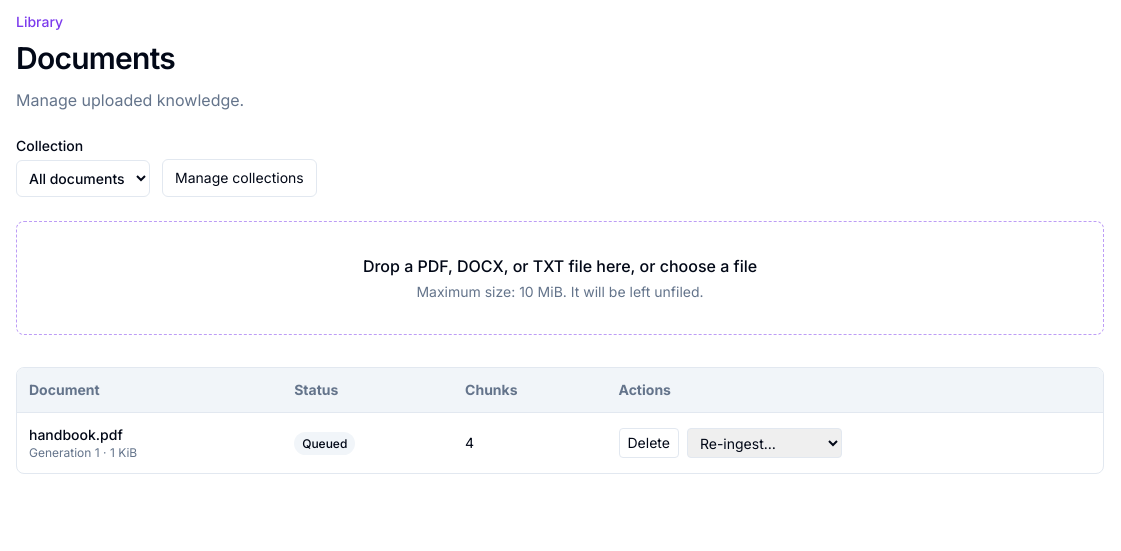
Scenario: document-library workspace › locks re-ingestion while queue acceptance is pending and then shows the server job state
Select "Manual repair" in the dropdown named "Re-ingest handbook.pdf": (764, 443) x1=687 y1=428 x2=842 y2=458
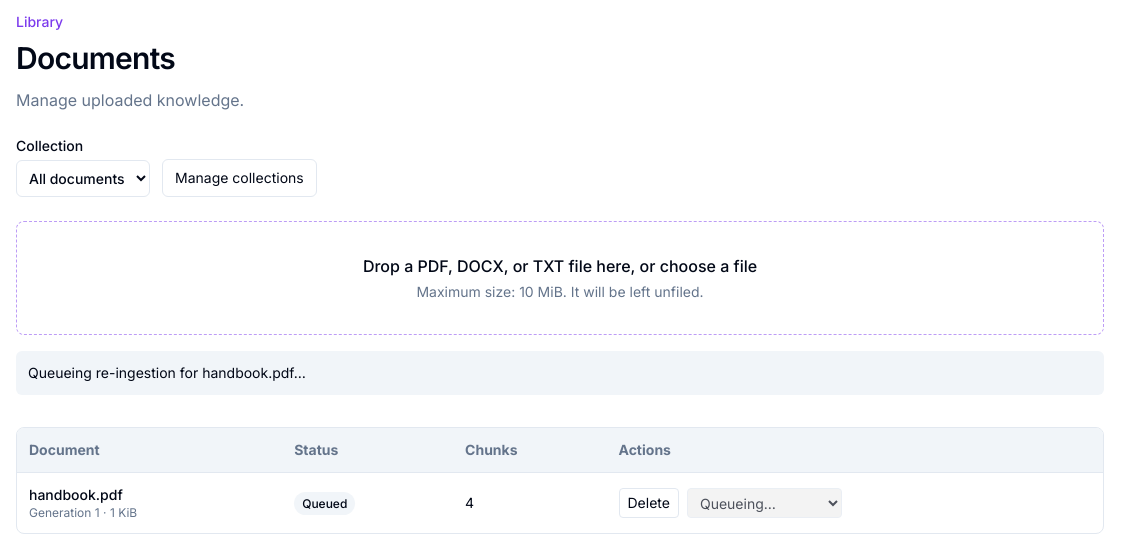
Check: the text "Queueing re-ingestion for handbook.pdf…" is shown, box x1=16 y1=351 x2=1104 y2=395
Check: the dropdown named "Re-ingest handbook.pdf" is disabled
Select "Chunking change" in the dropdown named "Re-ingest handbook.pdf": (764, 503) x1=687 y1=488 x2=842 y2=518
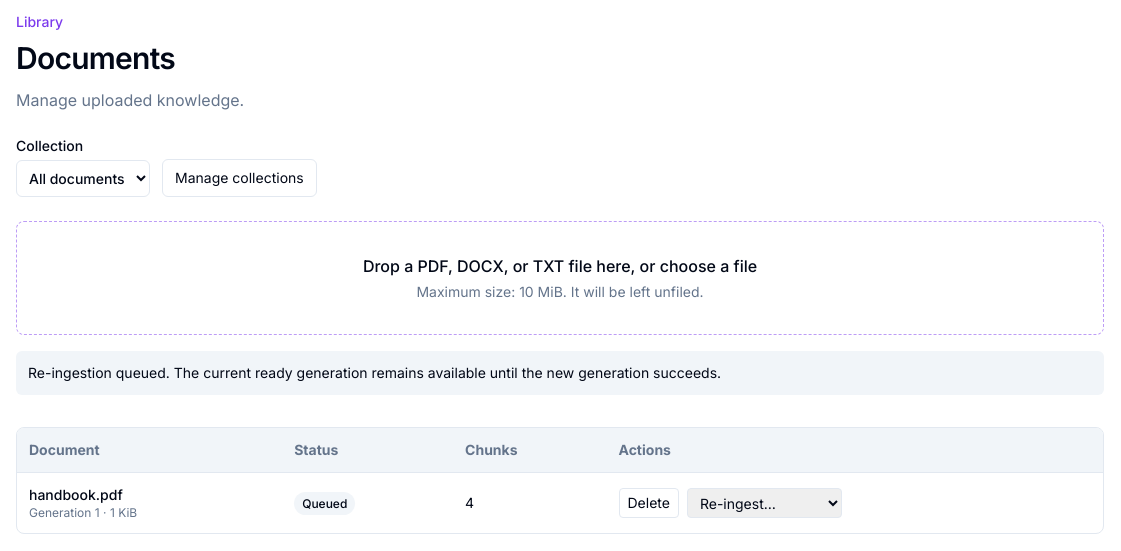
Check: the text "Queued" is shown, box x1=294 y1=492 x2=355 y2=515
Check: the text "Re-ingestion queued" is shown, box x1=28 y1=364 x2=721 y2=381
